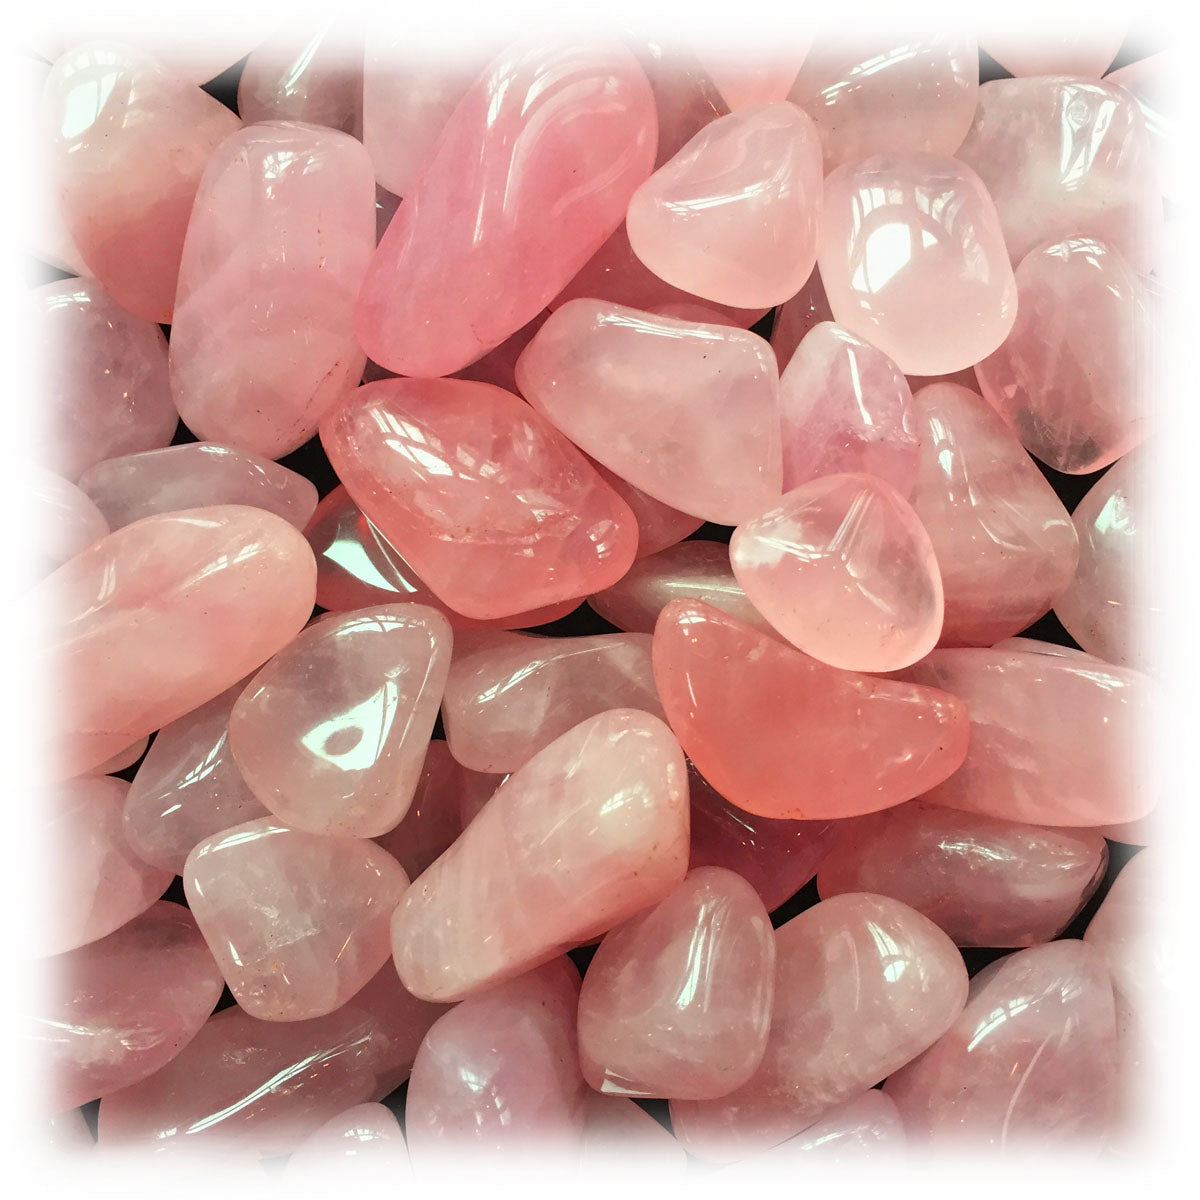Rose_Quartz: (80, 112, 1115, 1091)
